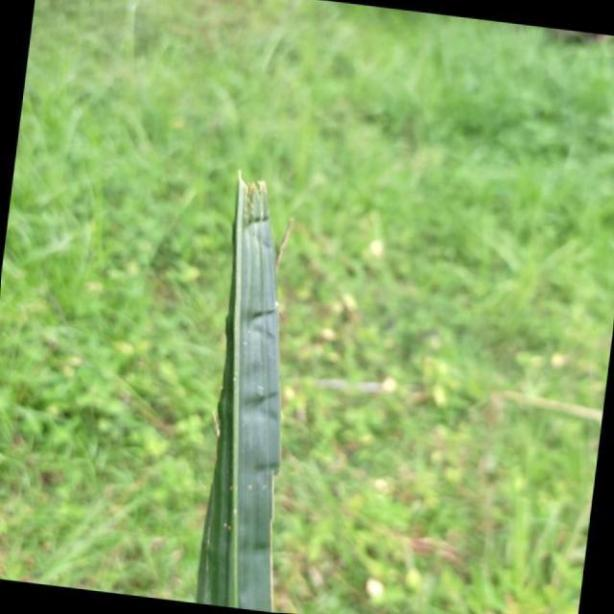Boron: (197, 169, 284, 614)
